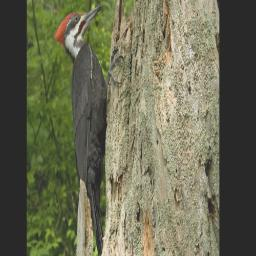Woodpecker: (53, 4, 125, 256)
